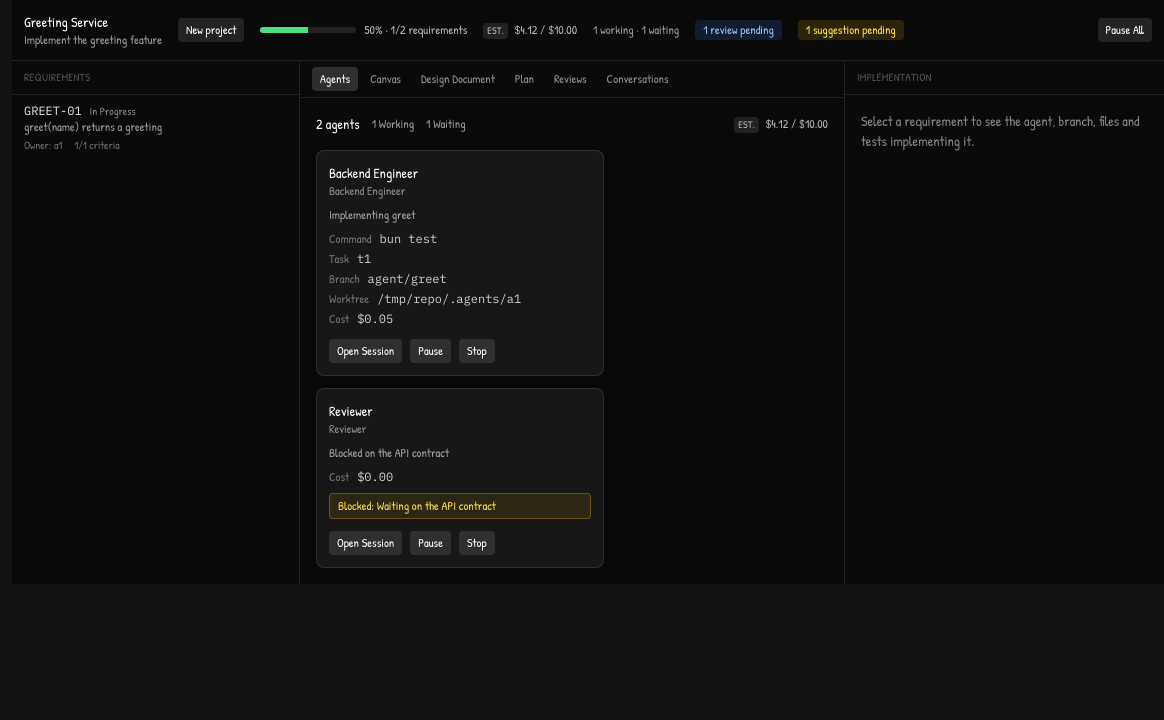
Test: §22.17: every checklist row is reachable in the assembled app › the requirement list renders, and a selected requirement shows its detail
The width and height of the screenshot is (1164, 720).
Expected: the text with test id "project-name" reads "Greeting Service", 24,12 -> 108,31
Click the button with test id "tab-document" at (458, 79), box 413,67 -> 503,91
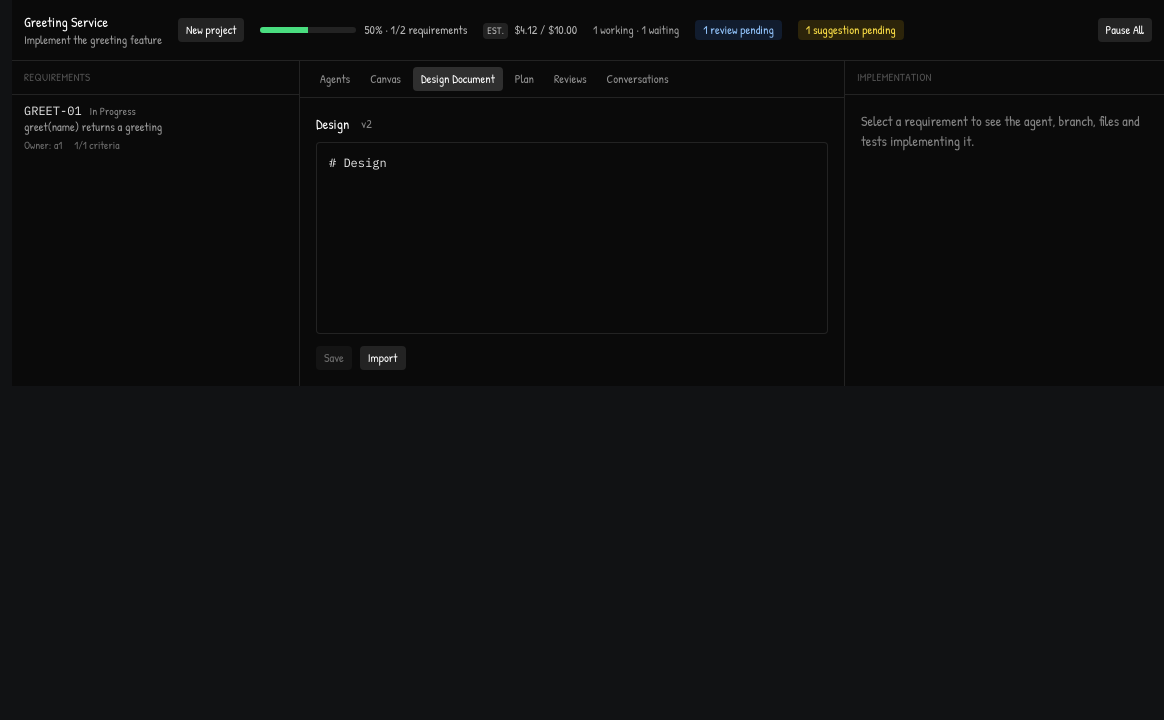
Expected: the list with test id "requirement-list" is shown, 12,94 -> 299,162
Click the text "GREET-01" at (53, 111), box 24,103 -> 82,119
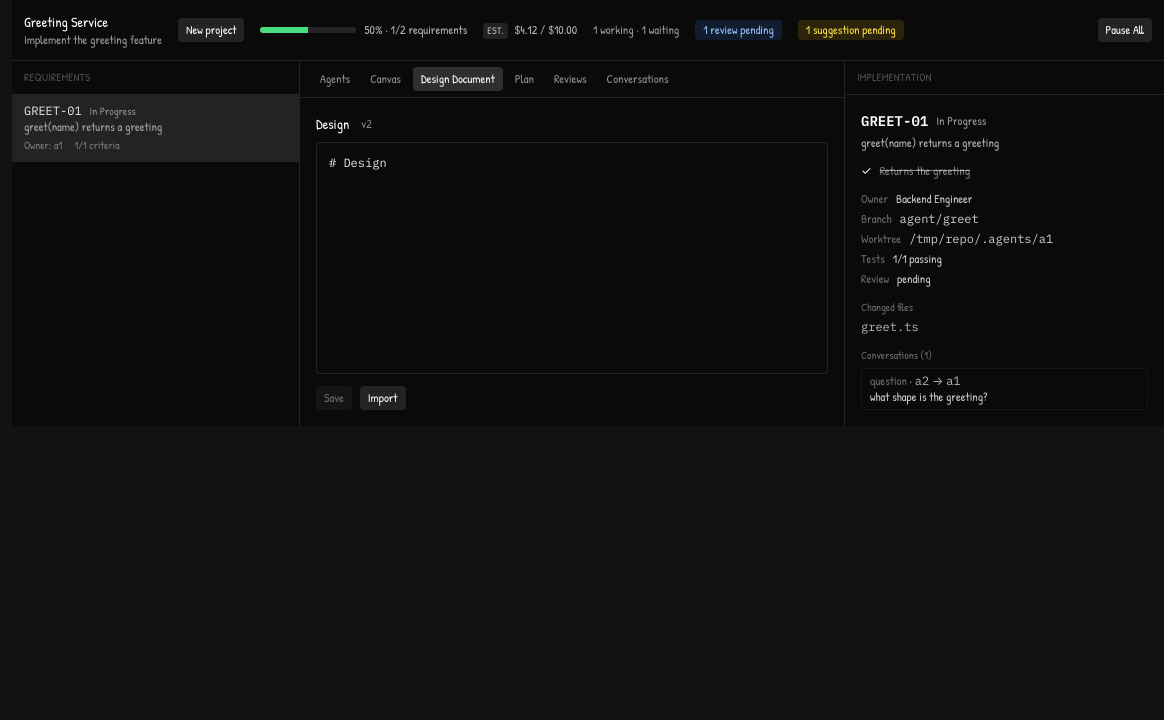
Expected: the element with test id "requirement-detail" is shown, 845,94 -> 1163,426
Expected: the element with test id "requirement-detail" shows "greet.ts", 861,319 -> 919,334
